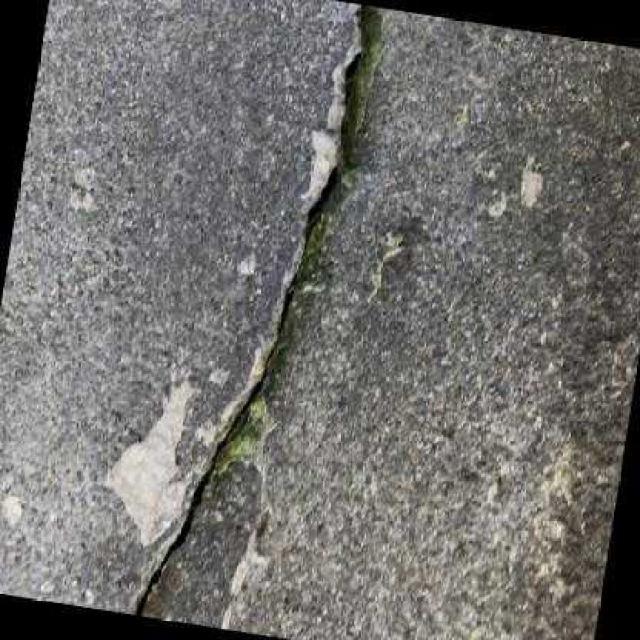D00: (131, 2, 361, 615)
